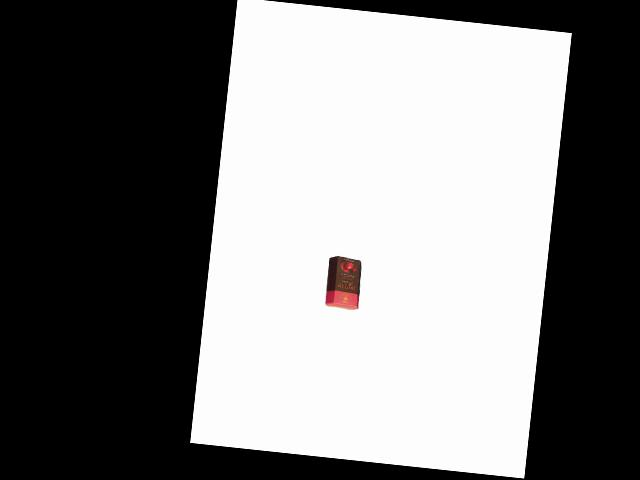chocolate: (322, 250, 364, 312)
